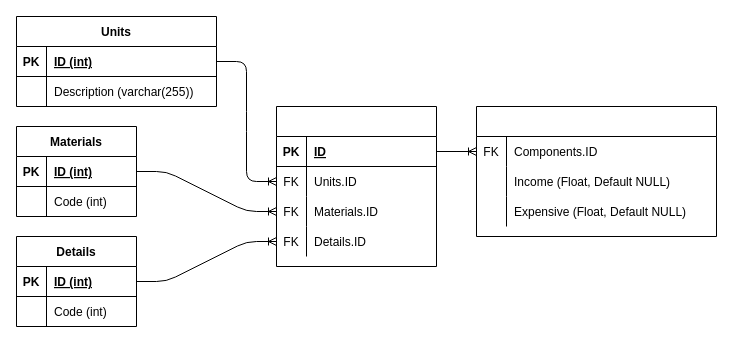
The diagram is 733 pixels wide and 343 high, and some of its shapes have lost their labels. The shapes that lost their labels are listed below. From the top down, each one's box as (x1, y1, x2, y2) in pixels, then its label:
(276, 106, 436, 266): Components
(476, 106, 716, 236): Income_Expensive_Book
